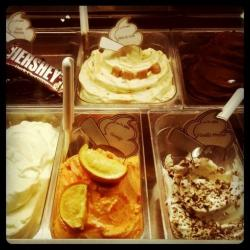icecream: (53, 109, 149, 238), (157, 116, 243, 240), (80, 28, 176, 106), (6, 115, 57, 241), (179, 29, 246, 109)
